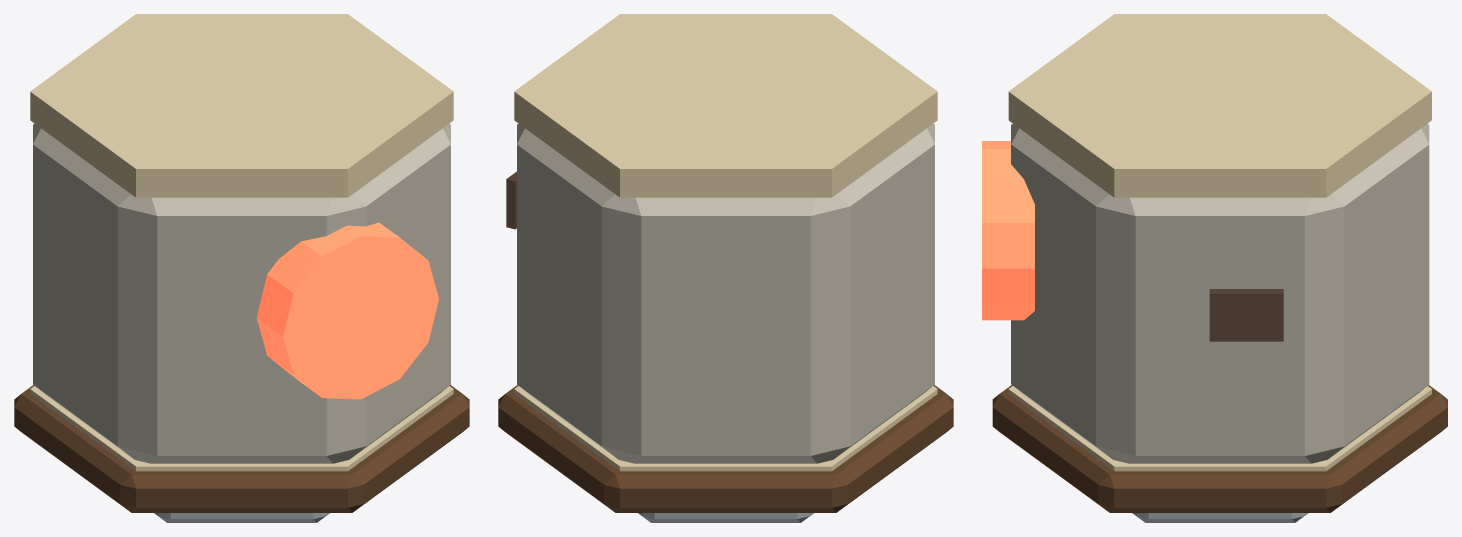
File: core_ember.glb
3 views of the same model, side by side, from view 1: azimuth 30°, elevation 25°; view 2: azimuth 150°, elevation 25°; view 3: azimuth 270°, elevation 25° (orthographic).
Visible parts, largest first — view 1: core_ember; view 2: core_ember; view 3: core_ember.
Part boxes in pixels (x1,y1,x2,y2): core_ember: (14, 14, 469, 522); core_ember: (498, 14, 953, 522); core_ember: (982, 14, 1447, 522).
Bounding box in the file's own units: 0.7911 × 0.799 × 0.88.
1 material, 1 textured.
